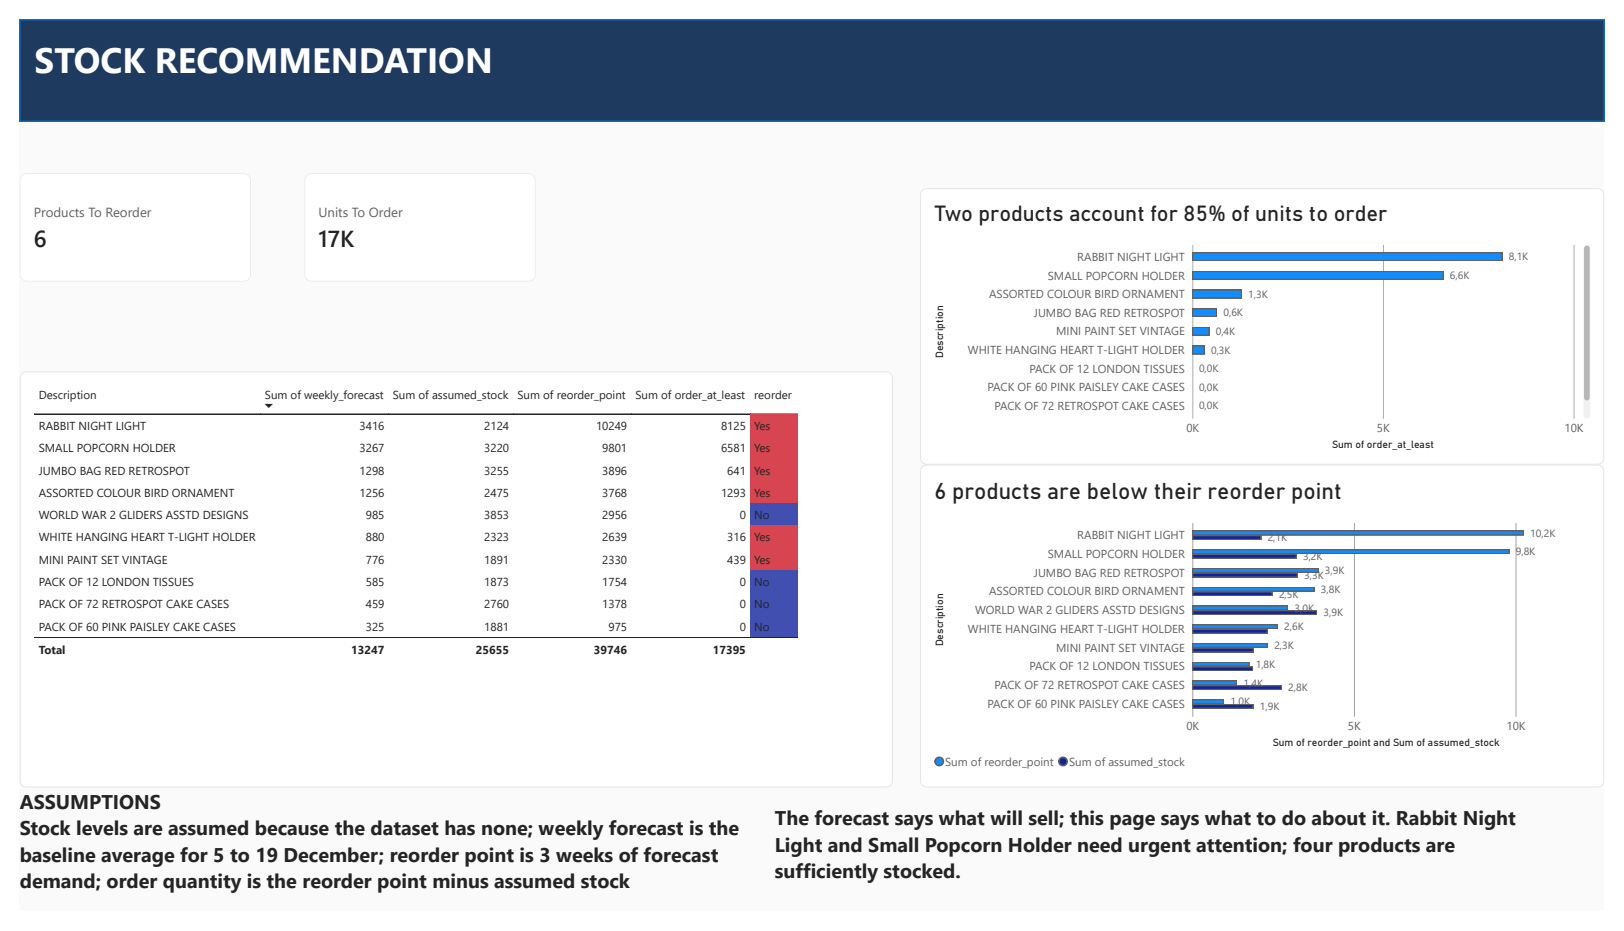

The dashboard page shown, as its layout file describes it:
{"tool":"powerbi","page":{"name":"Stock Recommendations","canvas":[1920,1080],"ordinal":4},"visuals":[{"type":"cardVisual","fields":{"Data":["Measures (2).Products To Reorder"]},"box":[0,186.5,279.7,131],"z":0},{"type":"cardVisual","fields":{"Data":["Measures (2).Units To Order"]},"box":[345.2,186.5,279.7,131],"z":1000},{"type":"tableEx","fields":{"Values":["top_10_products (2).Description","Sum(restock.weekly_forecast)","Sum(restock.assumed_stock)","Sum(restock.reorder_point)","Sum(restock.order_at_least)","restock.reorder"]},"box":[0,425.8,1058.3,503.9],"z":2000},{"type":"clusteredBarChart","title":"6 products are below their reorder point","fields":{"Category":["top_10_products (2).Description"],"Y":["Sum(restock.reorder_point)","Sum(restock.assumed_stock)"]},"box":[1091,539.2,829,390.6],"z":3000},{"type":"barChart","title":"Two products account for 85% of units to order","fields":{"Category":["top_10_products (2).Description"],"Y":["Sum(restock.order_at_least)"]},"box":[1091,204.1,829,335.1],"z":4000},{"type":"textbox","box":[0,929.8,914.6,151.2],"z":5000},{"type":"textbox","box":[914.6,949.9,914.6,110.9],"z":6000},{"type":"shape","box":[0,0,1920,123.5],"z":7000},{"type":"textbox","box":[17.6,17.6,655.1,83.1],"z":8000}]}

Visuals, with their boxes in screenshot pixels (x1, y1, x2, y2), scaled from the page's 1920x1080 canvas onto the 1624x931 screenshot:
cardVisual - Measures (2).Products To Reorder: <box>0,161,237,274</box>
cardVisual - Measures (2).Units To Order: <box>292,161,529,274</box>
tableEx - top_10_products (2).Description x Sum(restock.weekly_forecast): <box>0,367,895,801</box>
"6 products are below their reorder point" clusteredBarChart: <box>923,465,1623,802</box>
"Two products account for 85% of units to order" barChart: <box>923,176,1623,465</box>
textbox: <box>0,802,774,930</box>
textbox: <box>774,819,1547,914</box>
shape: <box>0,0,1623,106</box>
textbox: <box>15,15,569,87</box>
